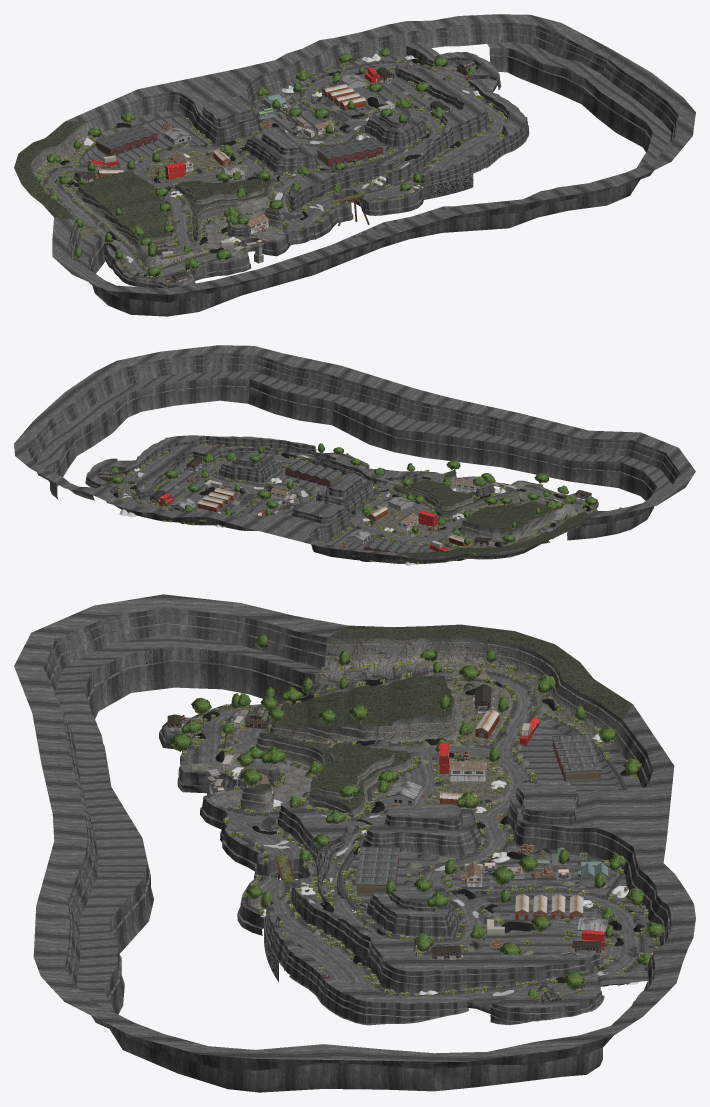
Rendered from Map 2.fbx.
The picture shows the model from 3 angles, top to bottom: view 1: azimuth 30°, elevation 25°; view 2: azimuth 150°, elevation 25°; view 3: azimuth 270°, elevation 25°; orthographic projection. The views are drawn at different scales.
Parts seen in each view (by area): view 1: Quarry_Base_D_Road_B.002, Quarry_Base_D_Road_B.015, Quarry_Base_D_Road_B.004, Quarry_Base_D_Road_B.003, Quarry_Base_D_Road_B.023, Quarry_Base_D_Road_B.001, Quarry_Base_D_Road_B.018, Quarry_Base_D_Road_B.022, Warehouse, Quarry_Base_A_RockValley_A, Quarry_Base_A_RockValley_C, Quarry_Base_D_Road_B (+22 smaller); view 2: Quarry_Base_D_Road_B.002, Quarry_Base_D_Road_B.003, Quarry_Base_D_Road_B.001, Quarry_Base_D_Road_B.015, Quarry_Base_D_Road_B.023, Quarry_Base_D_Road_B.004, Quarry_Base_D_Road_B.018, Warehouse, Quarry_Base_D_Road_B.022, Quarry_Base_A_RockValley_A, Quarry_Base_A_RockValley_C, Quarry_Base_A_RockValley_B (+10 smaller); view 3: Quarry_Base_D_Road_B.002, Quarry_Base_D_Road_B.001, Quarry_Base_D_Road_B.015, Quarry_Base_D_Road_B.003, Quarry_Base_A_RockValley_A, Quarry_Base_D_Road_B.023, Quarry_Base_D_Road_B.018, Quarry_Base_D_Road_B.022, Quarry_Base_D_Road_B.004, Quarry_Base_A_RockValley_C, Warehouse, Quarry_Base_D_Road_B.017 (+21 smaller).
Part boxes in pixels (<box>): Quarry_Base_D_Road_B.002: <box>199,172,646,311</box>; Quarry_Base_D_Road_B.015: <box>66,38,358,145</box>; Quarry_Base_D_Road_B.004: <box>407,14,610,104</box>; Quarry_Base_D_Road_B.003: <box>582,49,695,205</box>; Quarry_Base_D_Road_B.023: <box>335,21,529,186</box>; Quarry_Base_D_Road_B.001: <box>52,217,223,316</box>; Quarry_Base_D_Road_B.018: <box>231,61,457,150</box>; Quarry_Base_D_Road_B.022: <box>386,63,489,185</box>; Warehouse: <box>95,60,476,255</box>; Quarry_Base_A_RockValley_A: <box>14,121,101,237</box>; Quarry_Base_A_RockValley_C: <box>173,178,282,242</box>; Quarry_Base_D_Road_B: <box>269,159,475,230</box>; Quarry_Base_D_Road_B.002: <box>248,346,640,487</box>; Quarry_Base_D_Road_B.003: <box>34,345,258,455</box>; Quarry_Base_D_Road_B.001: <box>567,432,695,540</box>; Quarry_Base_D_Road_B.015: <box>138,506,410,563</box>; Quarry_Base_D_Road_B.023: <box>83,435,316,516</box>; Quarry_Base_D_Road_B.004: <box>14,416,94,500</box>; Quarry_Base_D_Road_B.018: <box>133,460,313,516</box>; Warehouse: <box>99,460,558,552</box>; Quarry_Base_D_Road_B.022: <box>135,444,331,499</box>; Quarry_Base_A_RockValley_A: <box>399,511,590,563</box>; Quarry_Base_A_RockValley_C: <box>393,469,519,519</box>; Quarry_Base_A_RockValley_B: <box>459,509,534,540</box>; Quarry_Base_D_Road_B.002: <box>14,666,153,1014</box>; Quarry_Base_D_Road_B.001: <box>14,594,347,718</box>; Quarry_Base_D_Road_B.015: <box>507,704,695,948</box>; Quarry_Base_D_Road_B.003: <box>41,969,462,1092</box>; Quarry_Base_A_RockValley_A: <box>314,624,632,746</box>; Quarry_Base_D_Road_B.023: <box>264,902,695,1025</box>; Quarry_Base_D_Road_B.018: <box>417,822,645,968</box>; Quarry_Base_D_Road_B.022: <box>291,880,602,994</box>; Quarry_Base_D_Road_B.004: <box>433,962,682,1091</box>; Quarry_Base_A_RockValley_C: <box>239,732,414,818</box>; Warehouse: <box>245,705,608,1001</box>; Quarry_Base_D_Road_B.017: <box>362,803,481,857</box>.
Size of what is drawn, in the model's own units: 728 by 71.18 by 453.
